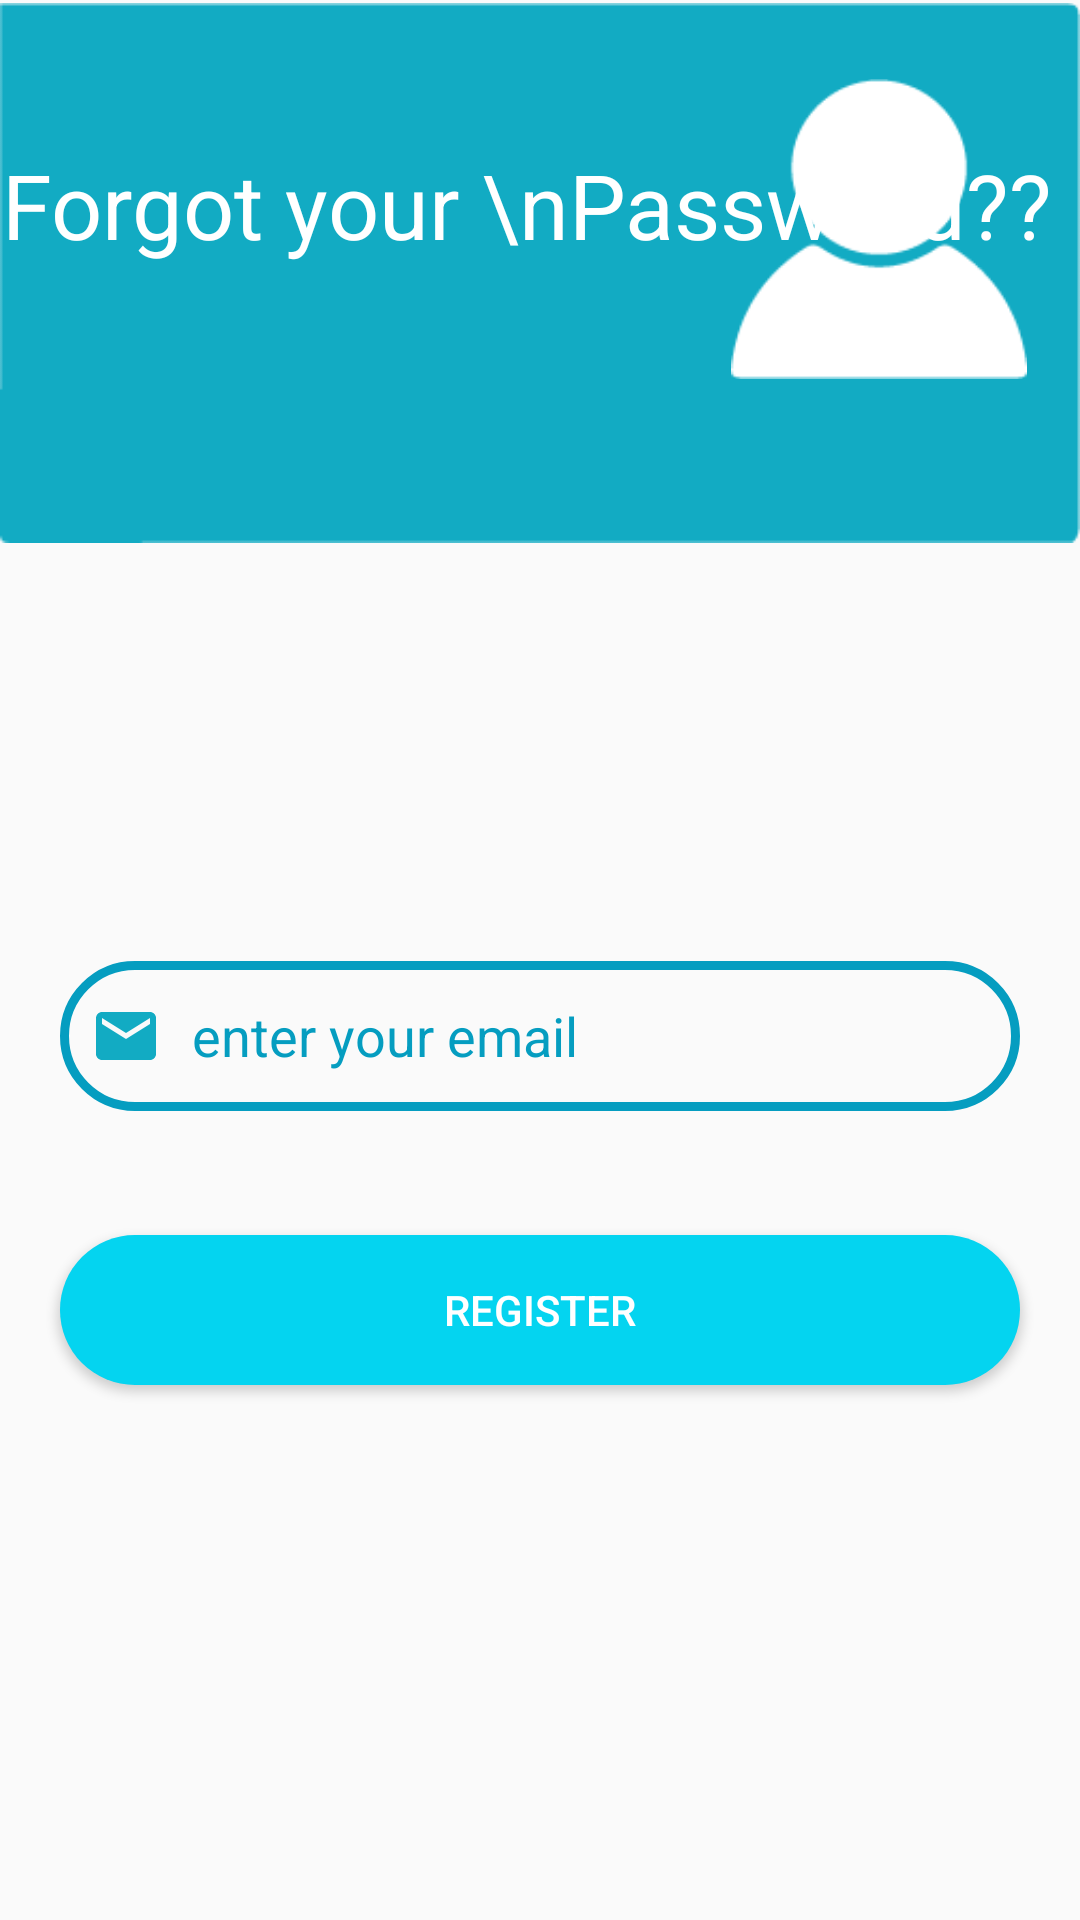

Locate icon controls on the screen. Image size 1080×1920, boxes as (x1, y1, x2, y2).
login: (729, 79, 1029, 379)
